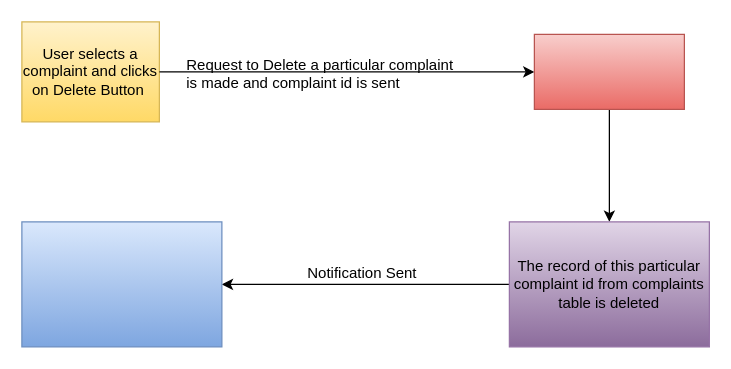
Some shapes in this 731 by 369 pixel diagram are drawn without their labels. Here are the shapes that lost their labels. From the top down, the centre of each, then its label:
At point 608,71: "Delete Complaint API".
At point 121,284: "User receives a notification regarding deletion of complaint".
